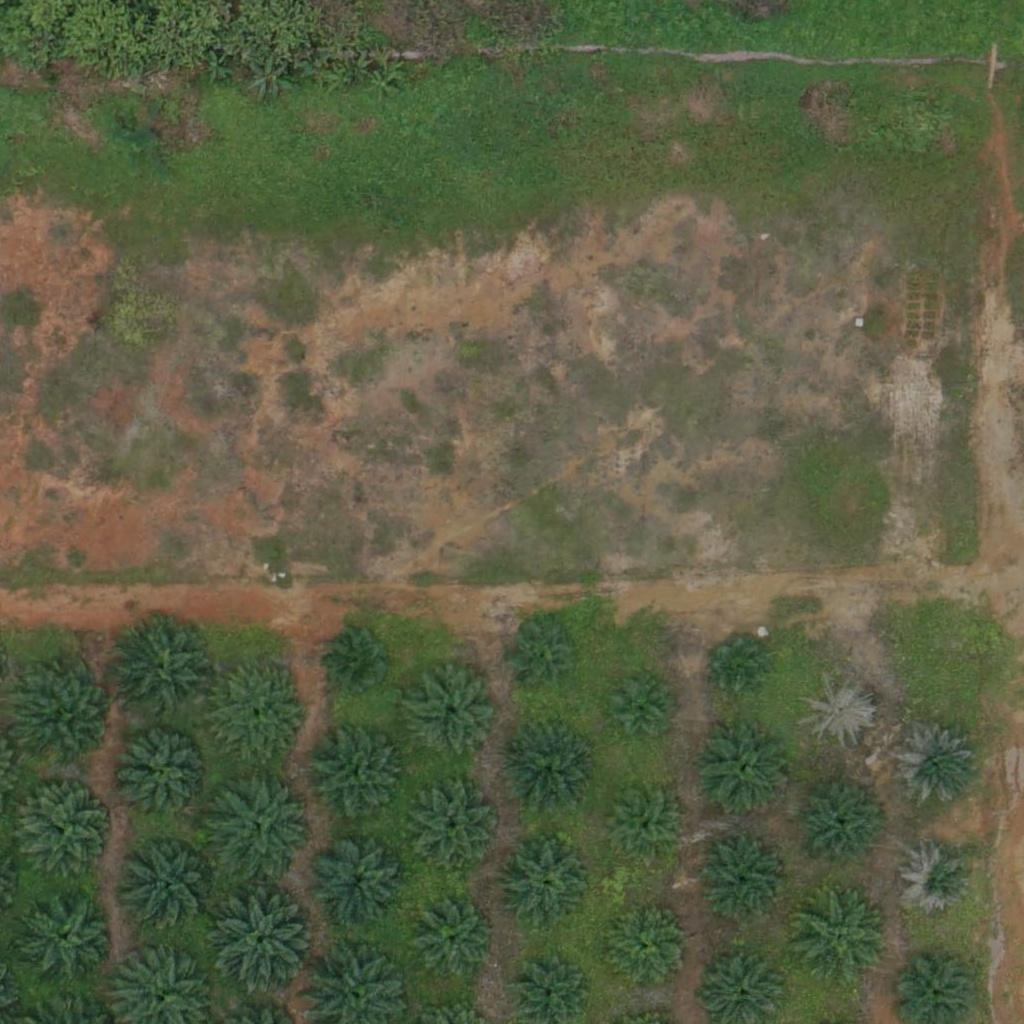Kelapa_Sawit: (108, 614, 220, 727), (208, 884, 320, 997), (16, 669, 116, 770), (117, 728, 217, 829), (119, 834, 219, 935), (210, 666, 310, 767), (212, 772, 312, 873), (306, 724, 406, 825), (309, 832, 409, 933), (403, 662, 503, 763), (16, 778, 116, 878), (19, 889, 119, 989), (695, 720, 795, 820), (794, 774, 894, 874), (794, 888, 894, 988), (411, 786, 499, 875), (505, 729, 593, 817), (502, 842, 590, 930), (604, 908, 692, 996), (890, 722, 978, 810), (408, 900, 495, 988), (700, 837, 787, 925), (801, 673, 876, 749), (902, 843, 977, 919), (607, 792, 682, 867), (512, 625, 575, 688), (609, 672, 672, 735), (329, 627, 392, 690), (705, 633, 767, 695)
